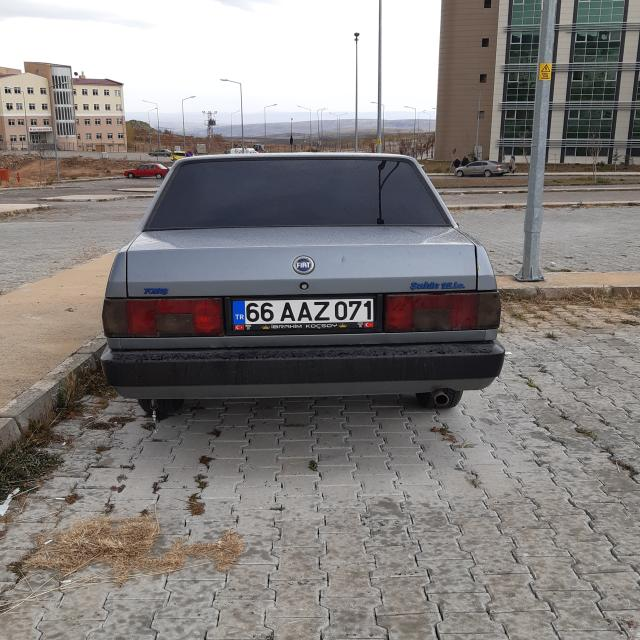license_plate: (233, 298, 375, 324)
